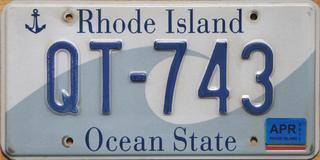placa de veiculo: (10, 1, 320, 157)
